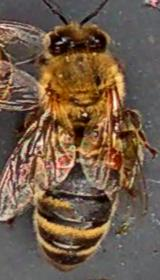varroa_mite: (96, 143, 125, 170)
